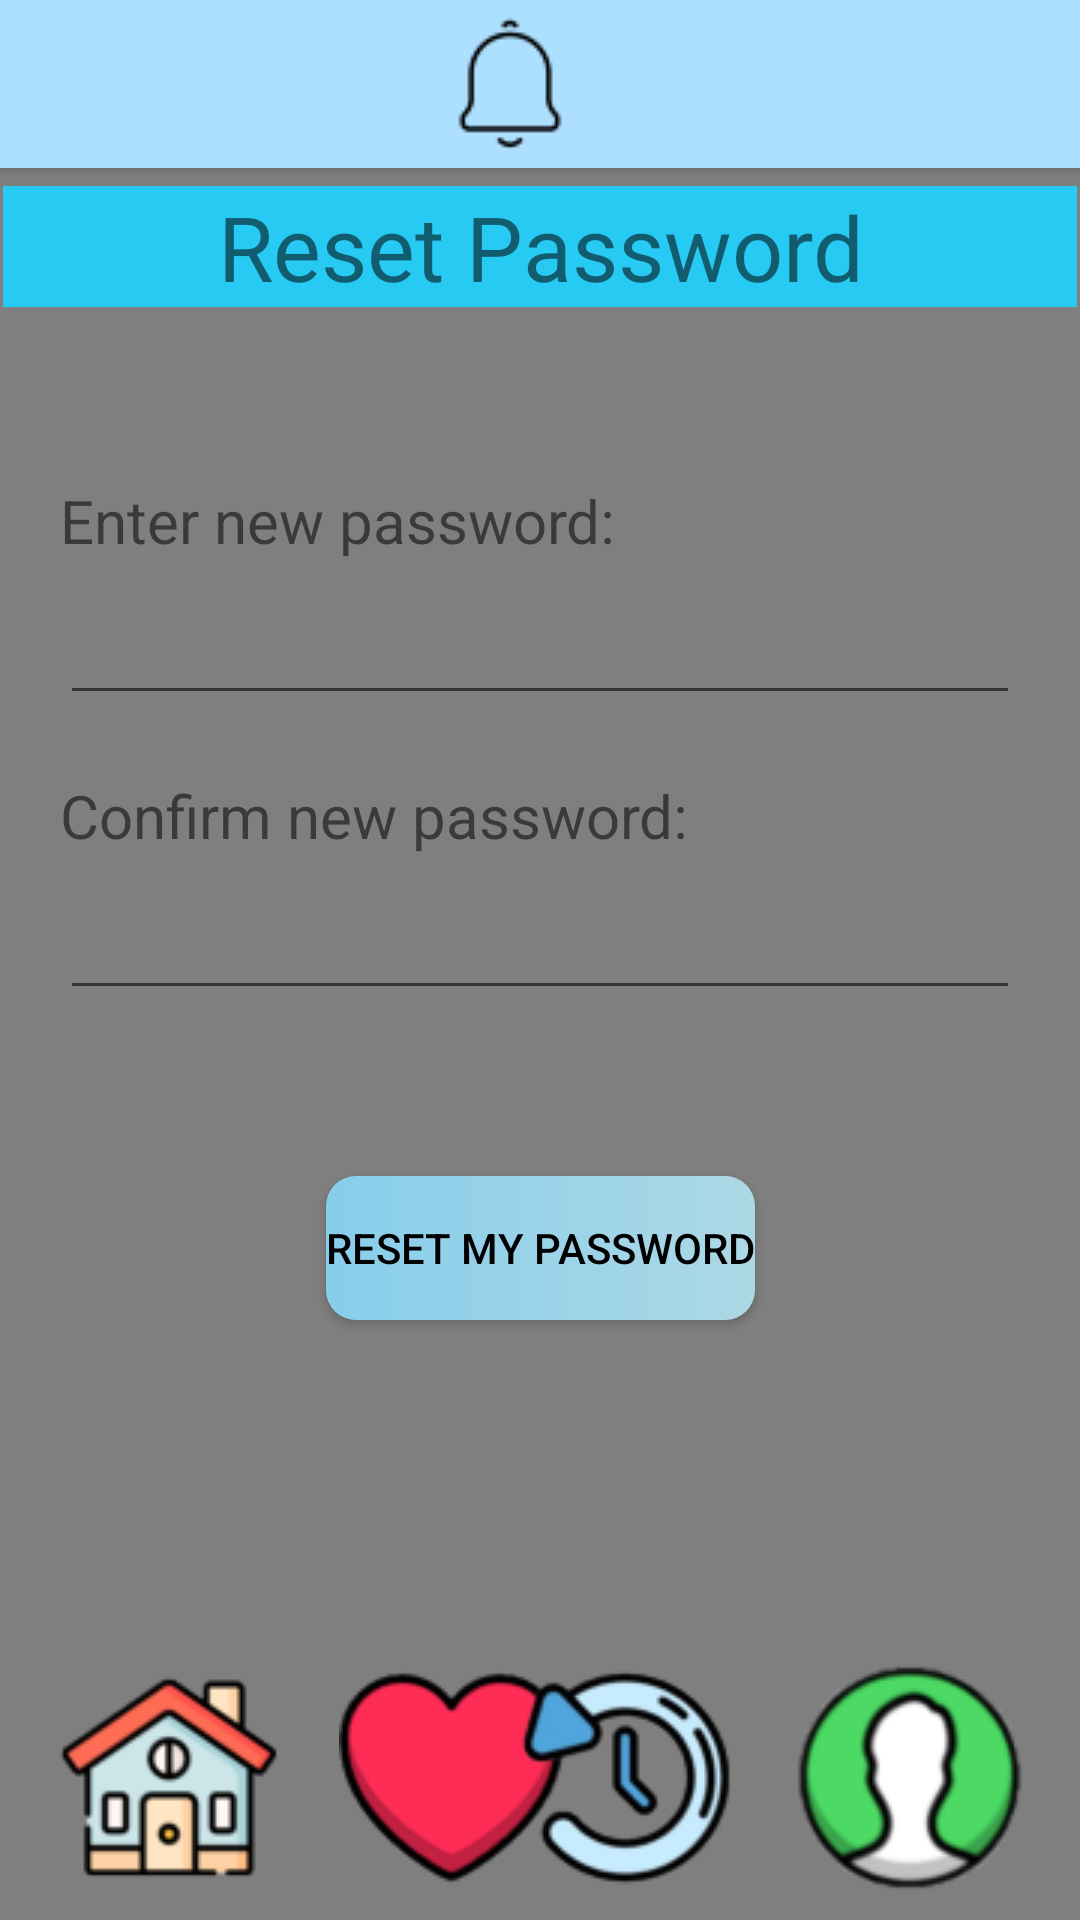

Icon click points for this 1080x1920 phone screenshot, format point (x, y):
heart: point (451, 1777)
history: point (623, 1777)
home: point (169, 1777)
notification: point (510, 83)
profile: point (909, 1777)
